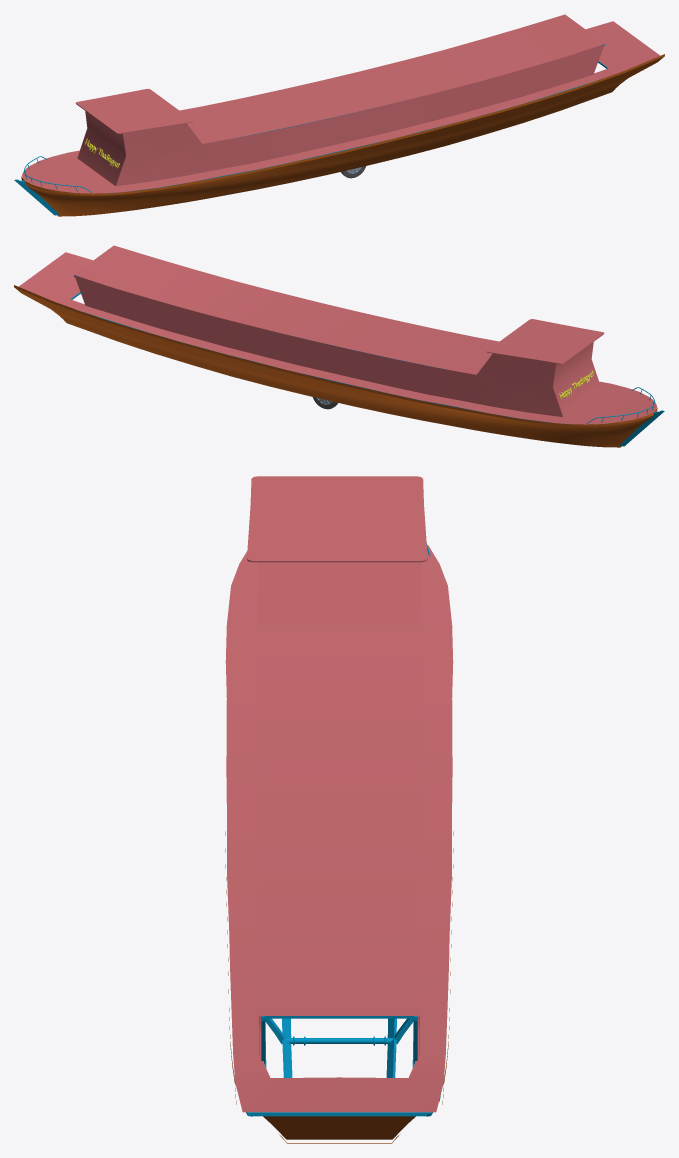
File: boat1.glb
3 views of the same model, one above another, from view 1: azimuth 30°, elevation 25°; view 2: azimuth 150°, elevation 25°; view 3: azimuth 270°, elevation 25° (orthographic). The views are drawn at different scales.
Parts seen in each view (by area): view 1: body_upper, pPlane10, frame3; view 2: body_upper, pPlane10, frame3; view 3: body_upper, frame3, pPlane10.
Part boxes in pixels (x1,y1,x2,y2): body_upper: (22,14,660,193); pPlane10: (21,54,664,216); frame3: (14,44,607,215); body_upper: (18,245,656,424); pPlane10: (14,285,657,447); frame3: (71,275,664,446); body_upper: (225,476,453,1112); frame3: (246,543,440,1116); pPlane10: (225,831,453,1143).
Size of the model in its own units: 7.62 by 1.43 by 1.21.
